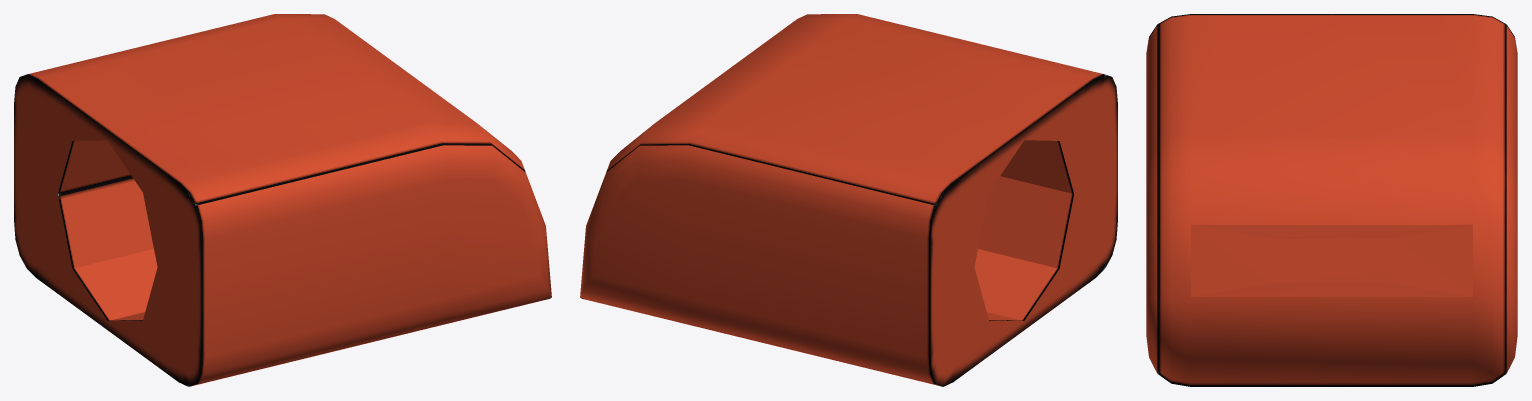
File: FERNMinigunLoader.fbx
The picture shows the model from 3 angles, left to right: view 1: azimuth 30°, elevation 25°; view 2: azimuth 150°, elevation 25°; view 3: azimuth 270°, elevation 25°; orthographic projection.
Visible parts, largest first — view 1: FERNMinigunLoader; view 2: FERNMinigunLoader; view 3: FERNMinigunLoader.
Part boxes in pixels (x1=…): FERNMinigunLoader: x1=14, y1=14, x2=551, y2=386; FERNMinigunLoader: x1=580, y1=14, x2=1117, y2=386; FERNMinigunLoader: x1=1146, y1=14, x2=1517, y2=386.
Bounding box in the file's own units: 12.7 × 6.67 × 11.37.
